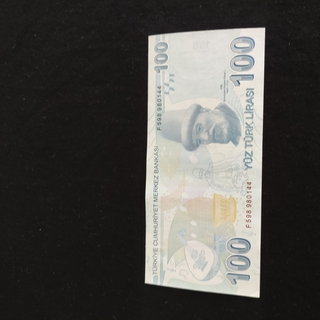100TLBack: (144, 27, 265, 298)
